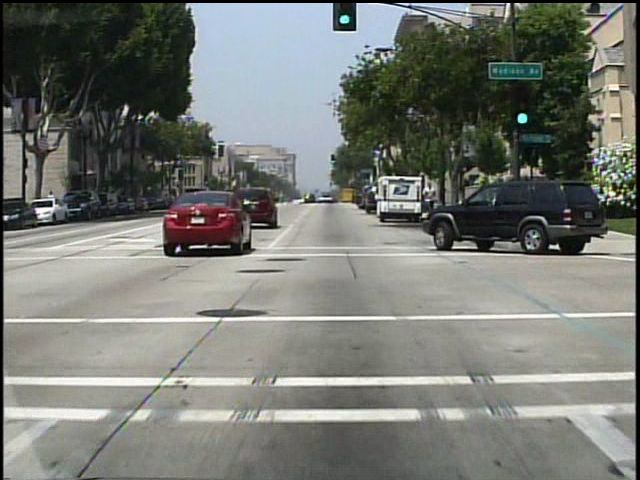person: (423, 183, 437, 215), (355, 185, 369, 214), (47, 189, 59, 212)
